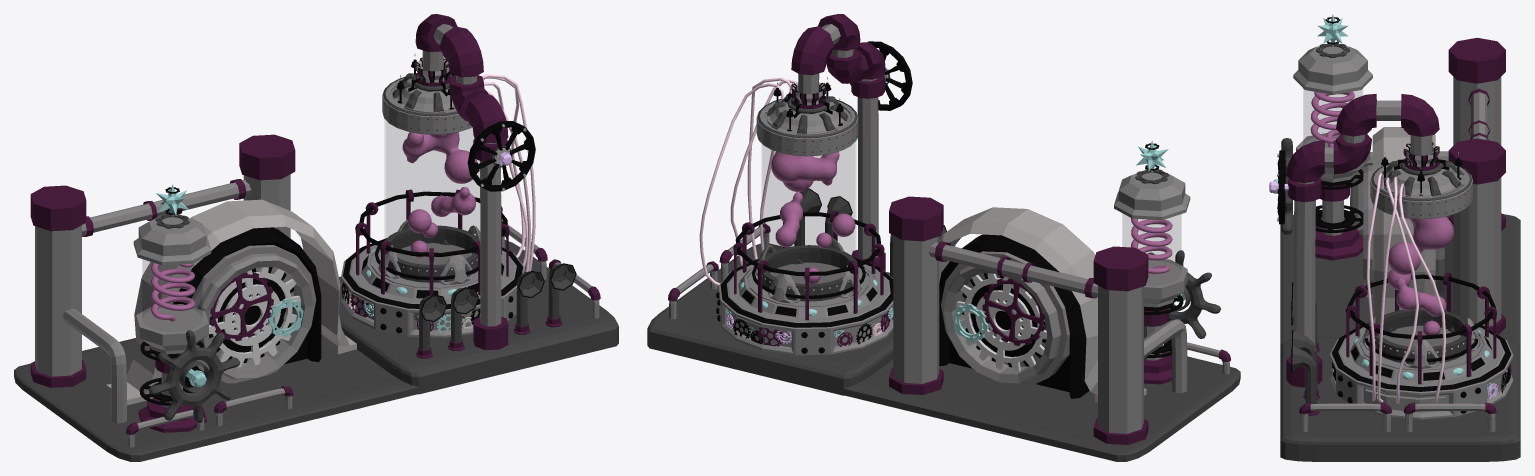
File: st2_generator A (1).fbx
The picture shows the model from 3 angles, left to right: view 1: azimuth 30°, elevation 25°; view 2: azimuth 150°, elevation 25°; view 3: azimuth 270°, elevation 25°; orthographic projection.
Visible parts, largest first — view 1: 2_generator_assistant_2_wheel5_1, 2_generator_assistant_2_wheel1, 2_generator_assistant_pipe4_7, 1_generator_main_body, 1_generator_main_body_bottom, 2_generator_assistant_2_wheel3, 1_generator_main_body_pipe1_2, 2_generator_assistant_pipe4_6, 1_generator_main_body_pipe1_1, 1_generator_Mball, 2_generator_assistant_2_gear3, 2_generator_assistant_pipe2_handle (+24 smaller); view 2: 2_generator_assistant_2_wheel5_1, 2_generator_assistant_pipe4_7, 1_generator_main_body_bottom, 1_generator_main_body, 2_generator_assistant_2_wheel1, 2_generator_assistant_2_wheel3, 2_generator_assistant_pipe4_6, 2_generator_assistant_2_wheel2, 1_generator_main_body_pipe1_2, 1_generator_main_body_pipe1_1, 1_generator_Mball, 2_generator_assistant_2_gear3 (+23 smaller); view 3: 2_generator_assistant_2_wheel5_1, 2_generator_assistant_pipe4_7, 1_generator_main_body_bottom, 1_generator_main_body, 1_generator_main_body_pipe1_2, 2_generator_assistant_pipe4_6, 1_generator_main_body_pipe1_1, 2_generator_assistant_2_wheel1, 1_generator_main_body_etc9, 1_generator_Mball, 1_generator_main_body_cover1, 2_generator_assistant_1_pipe2 (+30 smaller).
Boxes of the visible parts, x1,y1,x2,y2 form: 2_generator_assistant_2_wheel5_1: (14,240,618,461); 2_generator_assistant_2_wheel1: (106,199,356,405); 2_generator_assistant_pipe4_7: (35,174,290,376); 1_generator_main_body: (386,121,479,264); 1_generator_main_body_bottom: (341,243,524,337); 2_generator_assistant_2_wheel3: (191,245,316,383); 1_generator_main_body_pipe1_2: (415,14,508,350); 2_generator_assistant_pipe4_6: (30,134,295,387); 1_generator_main_body_pipe1_1: (422,24,501,326); 1_generator_Mball: (402,132,477,257); 2_generator_assistant_2_gear3: (209,267,300,367); 2_generator_assistant_pipe2_handle: (148,330,240,422); 2_generator_assistant_2_wheel5_1: (647,243,1240,461); 2_generator_assistant_pipe4_7: (893,235,1143,433); 1_generator_main_body_bottom: (718,261,893,355); 1_generator_main_body: (762,143,854,283); 2_generator_assistant_2_wheel1: (939,207,1146,402); 2_generator_assistant_2_wheel3: (941,251,1069,387); 2_generator_assistant_pipe4_6: (889,196,1148,444); 2_generator_assistant_2_wheel2: (939,234,1089,398); 1_generator_main_body_pipe1_2: (791,14,885,271); 1_generator_main_body_pipe1_1: (798,24,878,258); 1_generator_Mball: (771,151,855,283); 2_generator_assistant_2_gear3: (956,273,1047,371); 2_generator_assistant_2_wheel5_1: (1280,214,1520,461); 2_generator_assistant_pipe4_7: (1453,77,1501,326); 1_generator_main_body_bottom: (1330,325,1513,419); 1_generator_main_body: (1375,207,1468,346); 1_generator_main_body_pipe1_2: (1286,94,1439,387); 2_generator_assistant_pipe4_6: (1448,37,1505,334); 1_generator_main_body_pipe1_1: (1293,100,1432,345); 2_generator_assistant_2_wheel1: (1372,127,1435,320); 1_generator_main_body_etc9: (1366,172,1446,403); 1_generator_Mball: (1387,216,1453,335); 1_generator_main_body_cover1: (1370,163,1472,219); 2_generator_assistant_1_pipe2: (1293,46,1372,94).
Bounding box in the file's own units: 2953 × 1791 × 1299.
